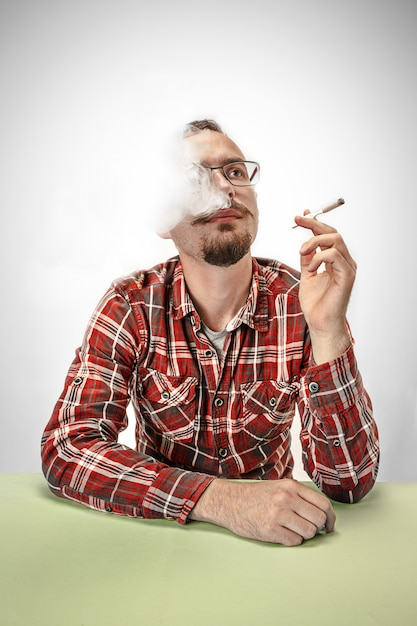cigarette: (290, 197, 349, 228)
